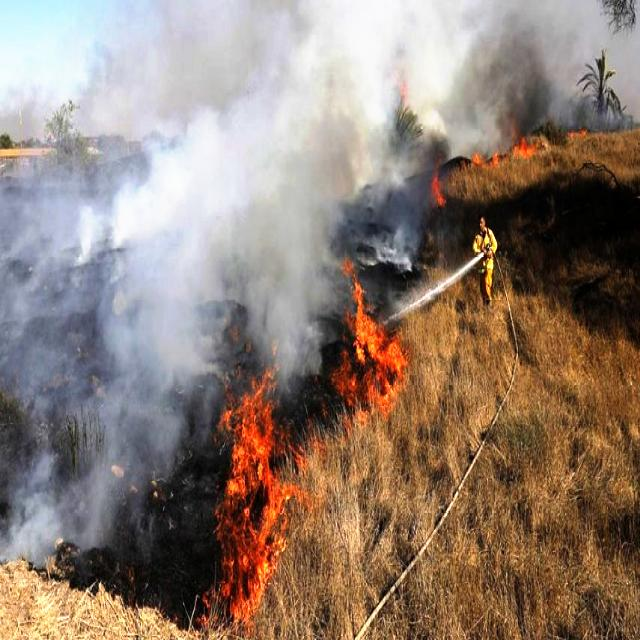api: (223, 376, 290, 635), (350, 286, 407, 413), (429, 174, 453, 219), (513, 136, 537, 168), (473, 148, 500, 169)
asap: (21, 2, 640, 130), (8, 265, 213, 603), (8, 140, 430, 272), (223, 265, 340, 379)
